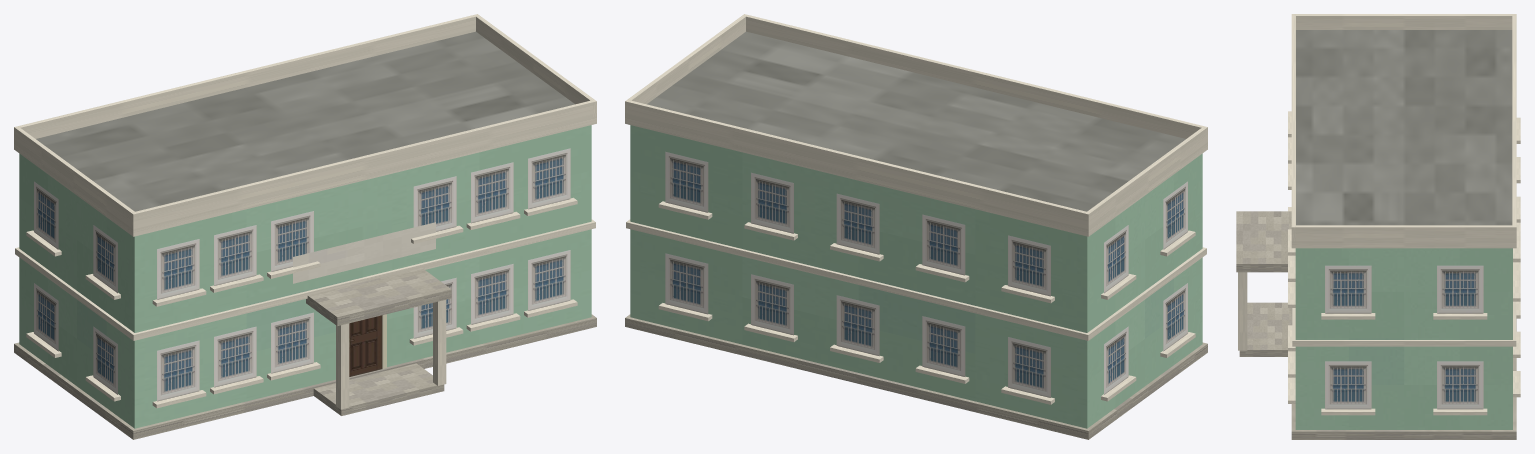
The model's file is school-mint.glb.
3 views of the same model, side by side, from view 1: azimuth 30°, elevation 25°; view 2: azimuth 150°, elevation 25°; view 3: azimuth 270°, elevation 25° (orthographic). The views are drawn at different scales.
Parts seen in each view (by area): view 1: school-mint, sign_1; view 2: school-mint; view 3: school-mint.
Part boxes in pixels (x1,y1,x2,y2): school-mint: (14, 14, 596, 439); sign_1: (293, 222, 435, 283); school-mint: (625, 14, 1207, 439); school-mint: (1236, 14, 1520, 439).
Bounding box in the file's own units: 16.48 × 7.55 × 9.14.
Materials: 1 (1 with a texture image).
